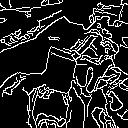cube: (41, 43, 79, 94)
